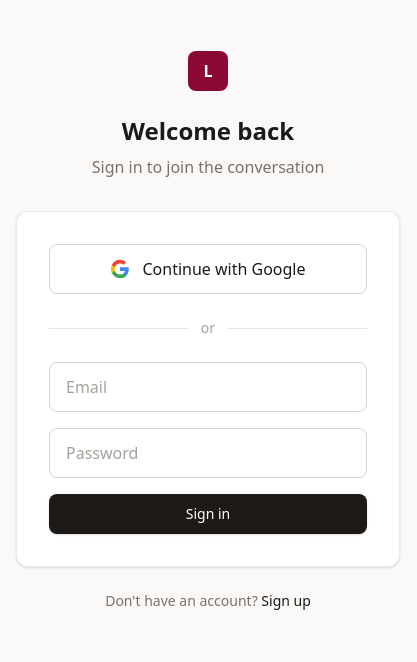
Test: LoginPage › displays error message on failed login
Step 1. Type "test@example.com" into the field with placeholder "Email" → [208, 387], box [49,362,367,412]
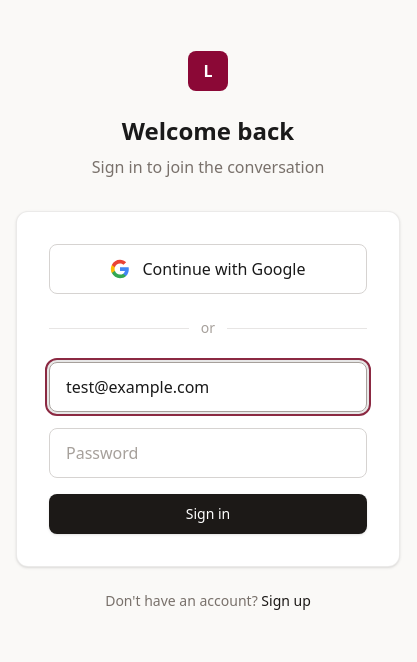
Step 2. Type "wrongpassword" into the password field with placeholder "Password" → [208, 453], box [49,428,367,478]
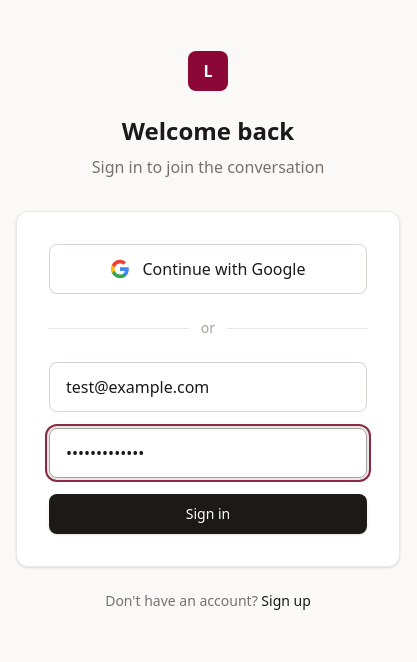
Step 3. Click the button "Sign in" → [208, 514], box [49,494,367,534]
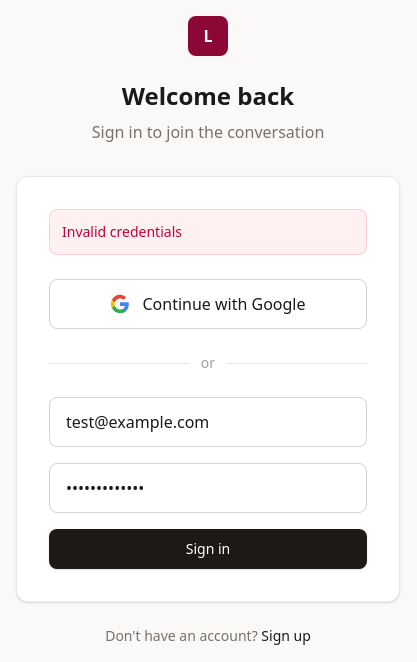
Expected: the text "Invalid credentials" is shown, [49,209,367,255]
